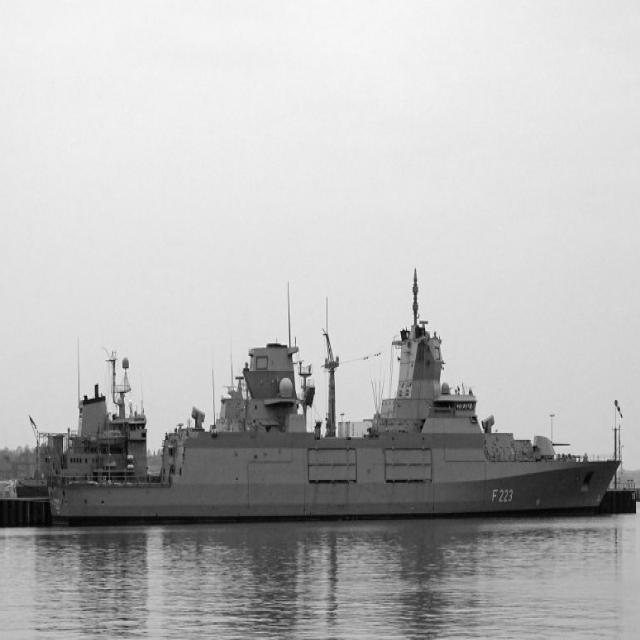Fragata: (27, 264, 625, 535)
